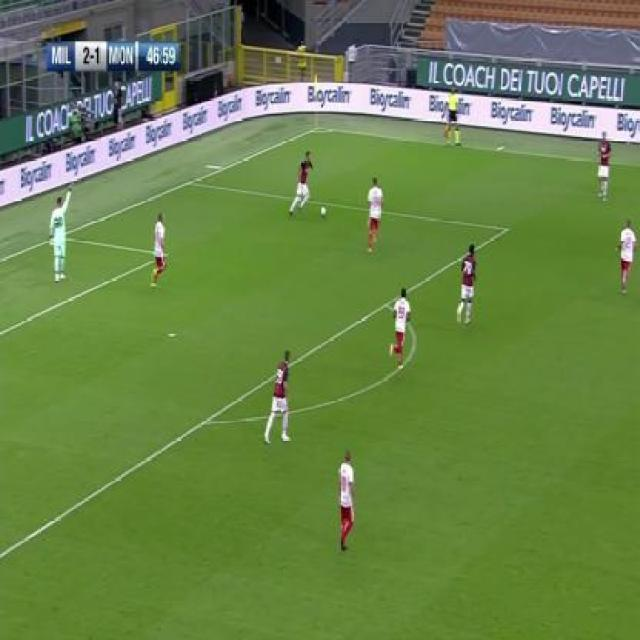ball: (320, 203, 328, 220)
player: (263, 351, 294, 448), (49, 182, 74, 284), (335, 447, 357, 555), (389, 286, 414, 372), (456, 241, 479, 330), (289, 149, 317, 220), (614, 218, 637, 294), (149, 208, 169, 290), (365, 175, 384, 257), (596, 130, 613, 203), (443, 86, 462, 149)
